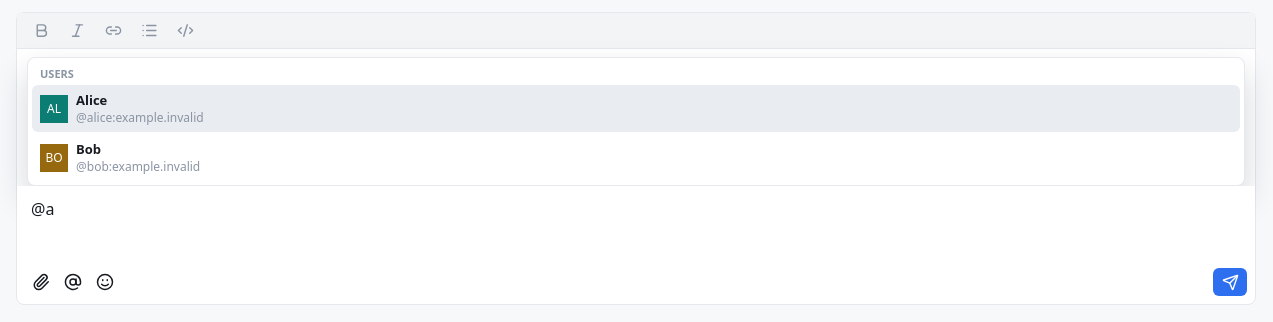
it: Composer › closes mention suggestions on Escape until the query changes
Expected: the list named "Mention suggestions" is shown, [27,57,1245,186]
Step 1. Press Escape in the text box named "Message composer", box [17,186,1255,268]
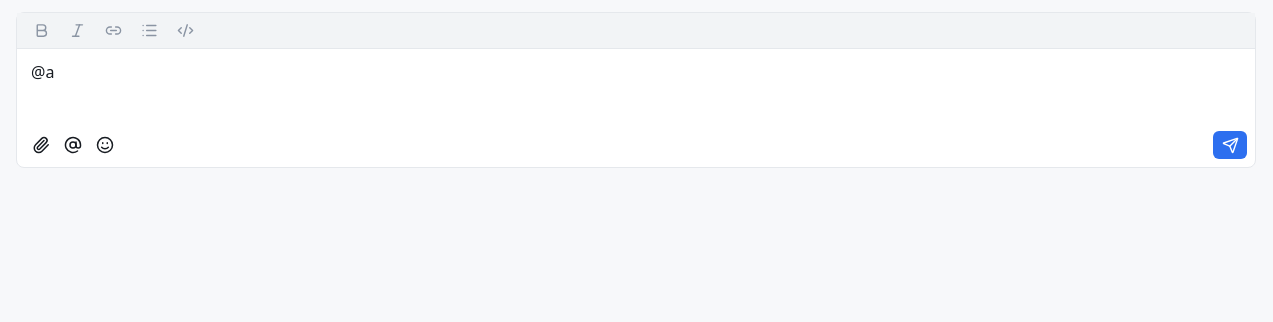
Step 2. Replace the text in the text box named "Message composer" with "@al" → (636, 90), box [17,49,1255,131]
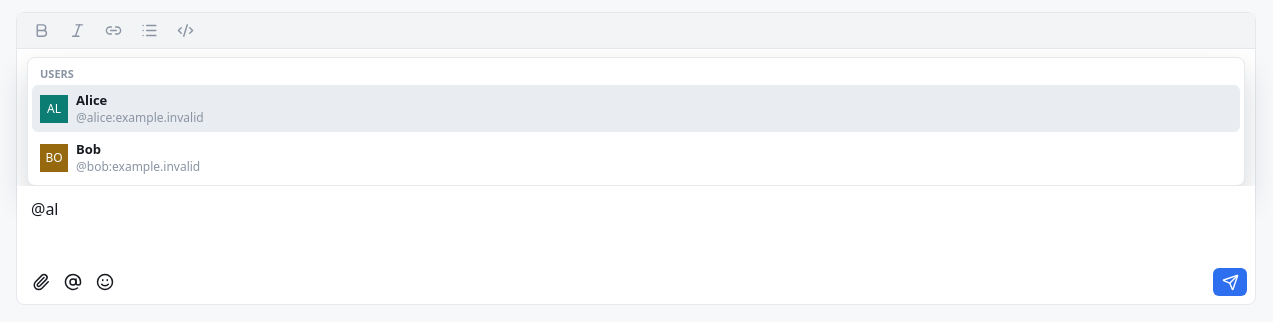
Expected: the list named "Mention suggestions" is shown, [27,57,1245,186]
